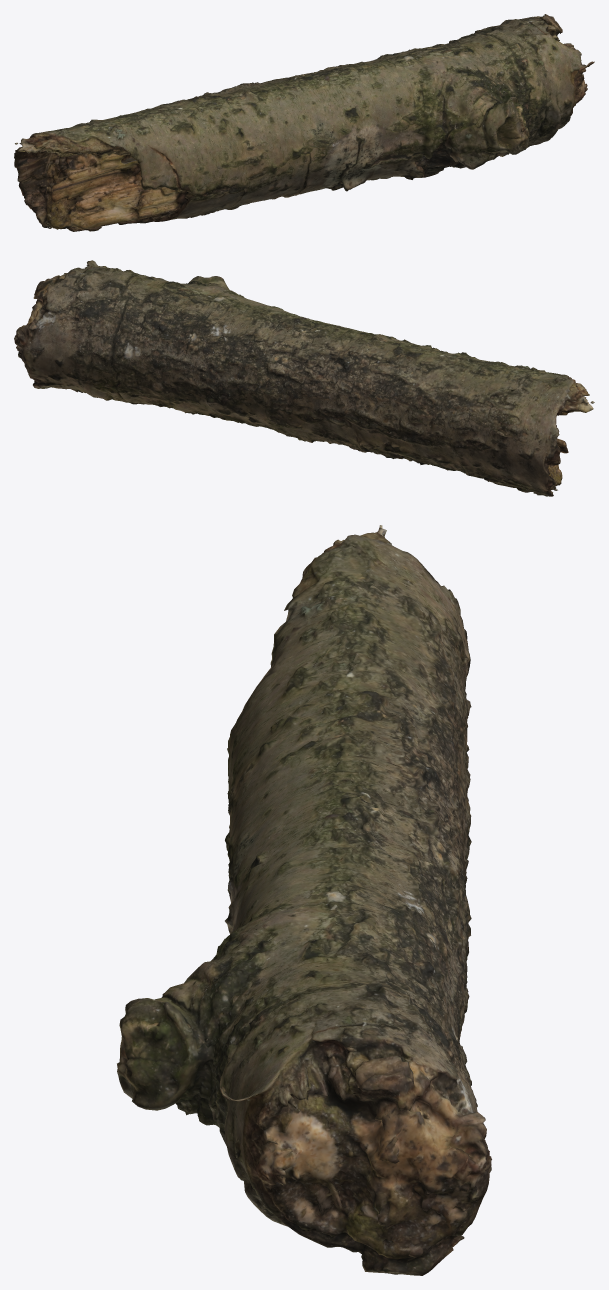
The model's file is 3DStick001_HQ-4K-PNG.obj.
3 views of the same model, one above another, from view 1: azimuth 30°, elevation 25°; view 2: azimuth 150°, elevation 25°; view 3: azimuth 270°, elevation 25° (orthographic). The views are drawn at different scales.
Visible parts, largest first — view 1: 3DStick001_HQ-4K-PNG; view 2: 3DStick001_HQ-4K-PNG; view 3: 3DStick001_HQ-4K-PNG.
Part boxes in pixels (box(x1,y1,x2,y2)): 3DStick001_HQ-4K-PNG: box(14, 14, 594, 231); 3DStick001_HQ-4K-PNG: box(14, 260, 594, 496); 3DStick001_HQ-4K-PNG: box(117, 525, 491, 1275).
Bounding box in the file's own units: 0.1321 × 0.0289 × 0.0388.
1 material, 1 textured.
